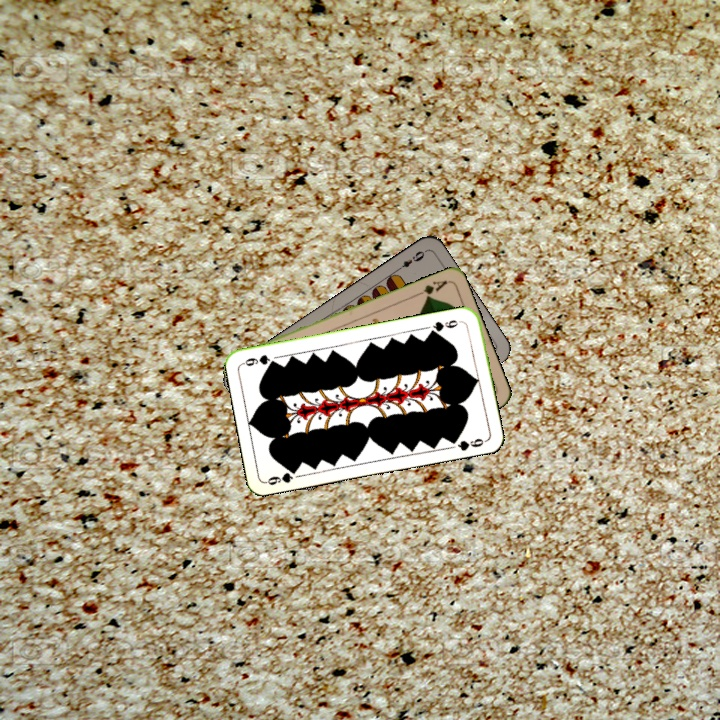E9: (392, 246, 428, 274)
G9: (262, 464, 301, 488), (426, 316, 460, 336)
GA: (411, 276, 450, 301)
